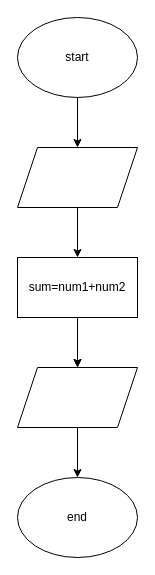
The diagram is 155 pixels wide and 575 high, and some of its shapes have lost their labels. The centre of each missing label's shape, as x and y in pixels:
"num1 & num 2" goes at (77,177).
"print sum" goes at (77,397).
